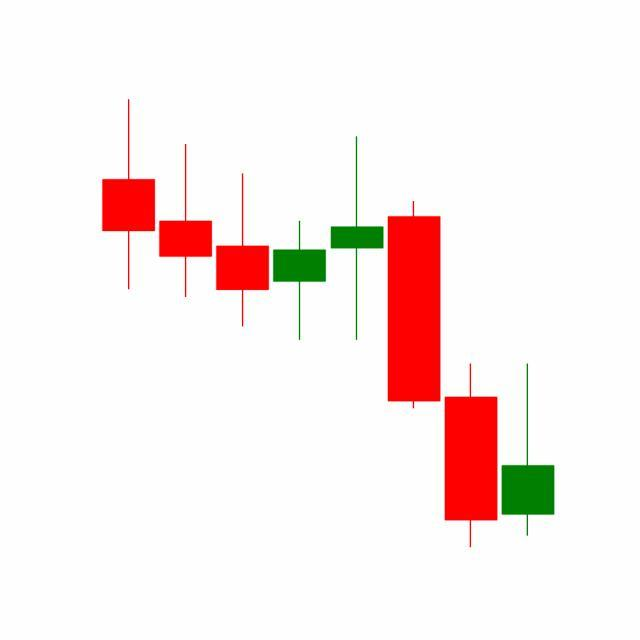Three Outside Up-Down: (328, 132, 500, 548)
